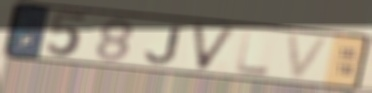5: (45, 12, 92, 60)
8: (95, 16, 137, 63)
J: (144, 23, 183, 66)
L: (234, 29, 272, 77)
V: (189, 23, 239, 73), (284, 32, 334, 81)
